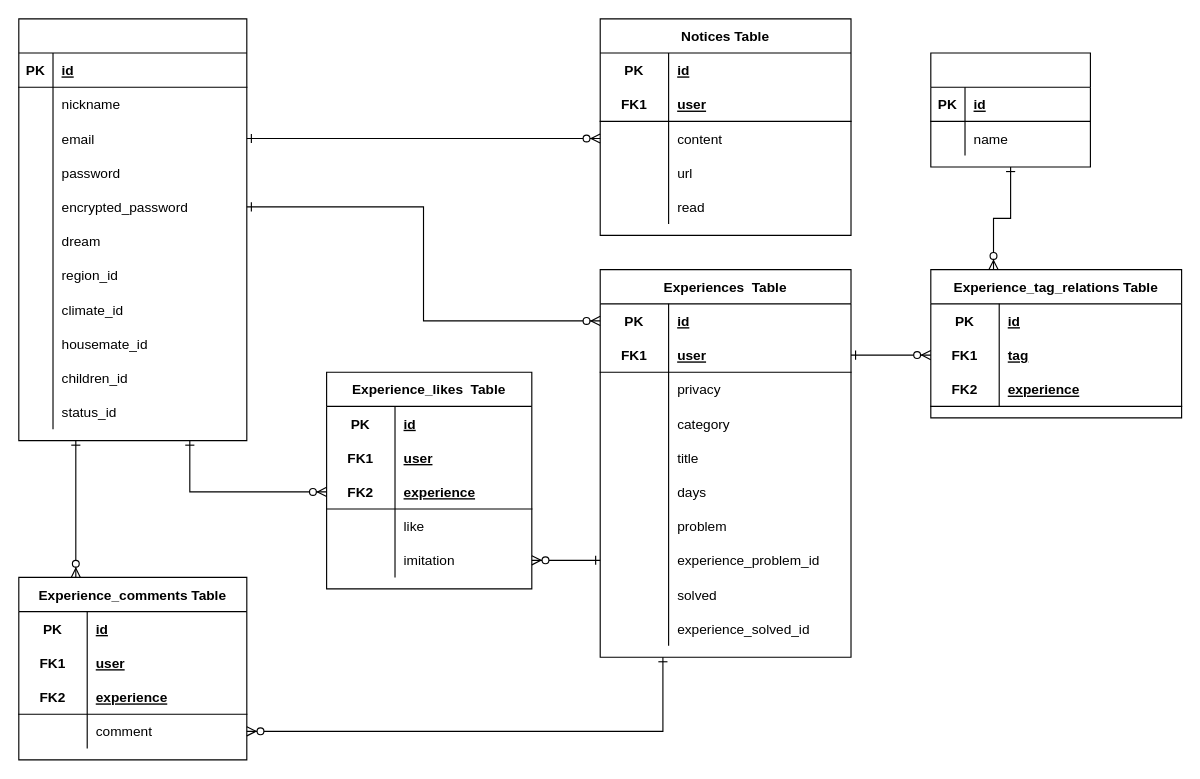
Some shapes in this 1200 by 779 pixel diagram are drawn without their labels. The shapes that lost their labels are listed below. From the top down, each one's box as (x1, y1, x2, y2) in pixels, then its label:
(930, 52, 1090, 167): Tags Table
(18, 18, 247, 441): Users Table
